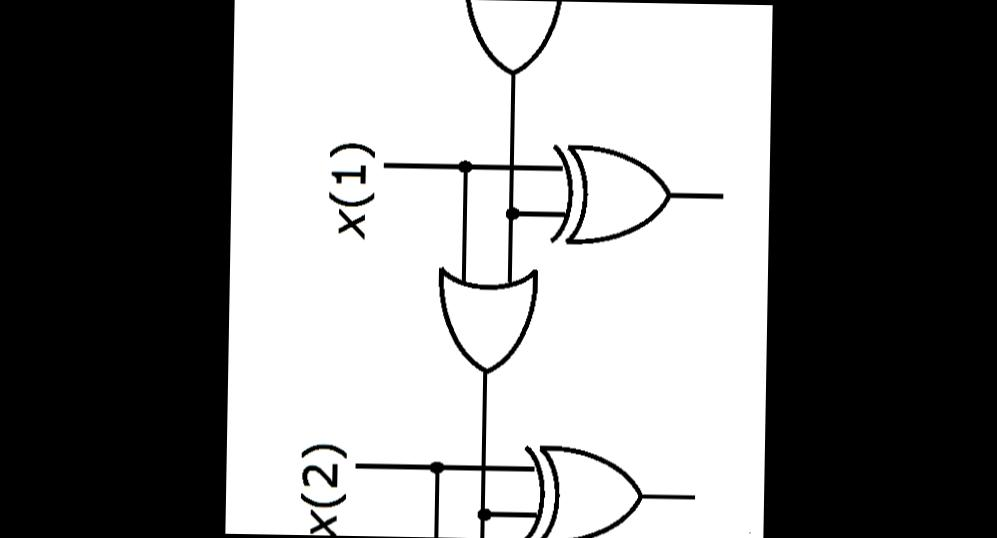or: (430, 260, 545, 382), (456, 0, 568, 82)
xor: (541, 136, 678, 249), (514, 436, 650, 538)
